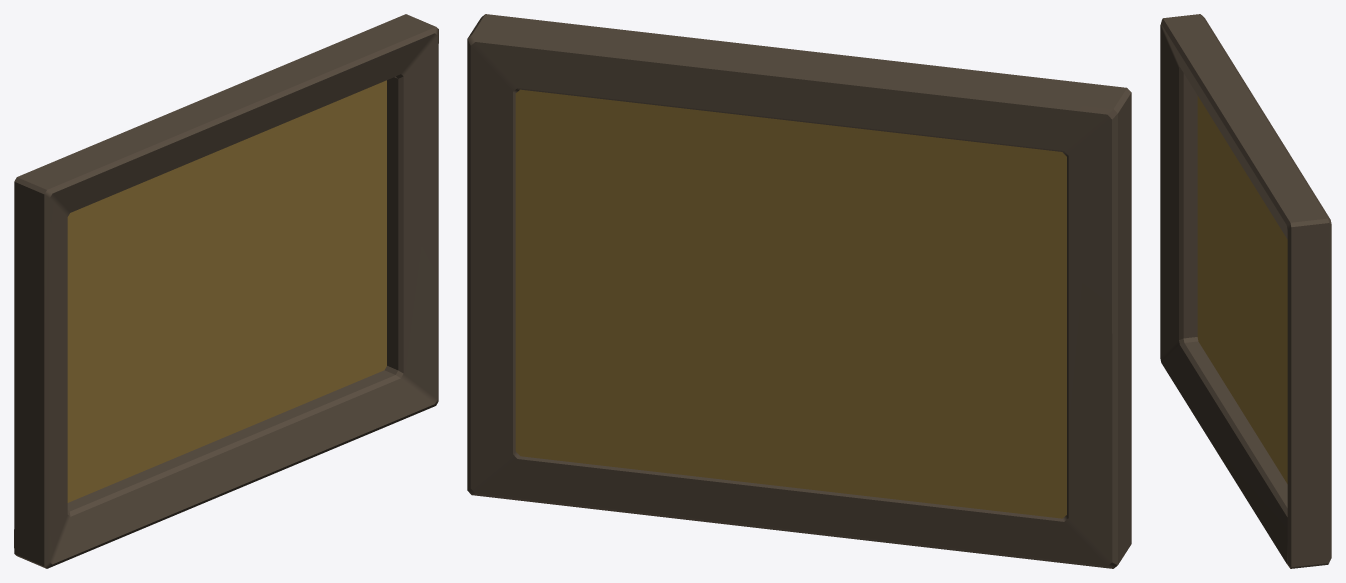
The model's file is TEMP_Painting_Orange.fbx.
3 views of the same model, side by side, from view 1: azimuth 30°, elevation 25°; view 2: azimuth 150°, elevation 25°; view 3: azimuth 270°, elevation 25° (orthographic). The views are drawn at different scales.
Parts seen in each view (by area): view 1: PaintingOrange; view 2: PaintingOrange; view 3: PaintingOrange.
Boxes of the visible parts, box(x1,y1,x2,y2) form: PaintingOrange: box(14, 14, 438, 568); PaintingOrange: box(467, 14, 1131, 568); PaintingOrange: box(1160, 14, 1331, 568).
Size of the model in its own units: 10.75 by 8.21 by 3.68.
